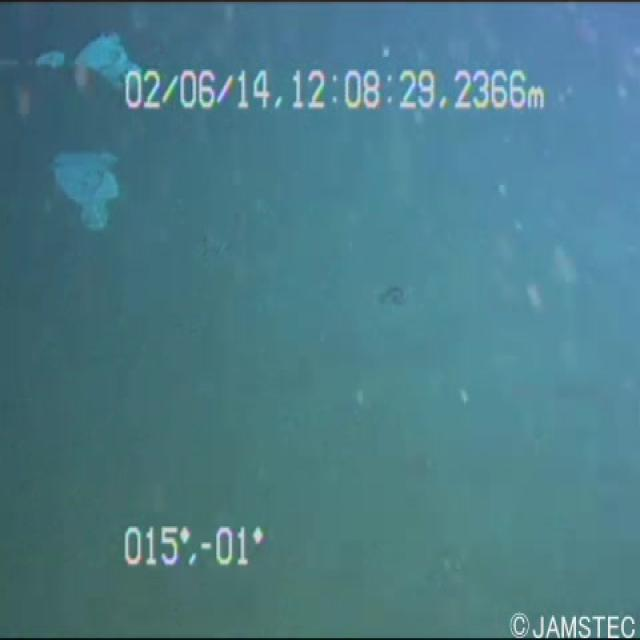plastic: (5, 14, 162, 121), (34, 118, 134, 238)
